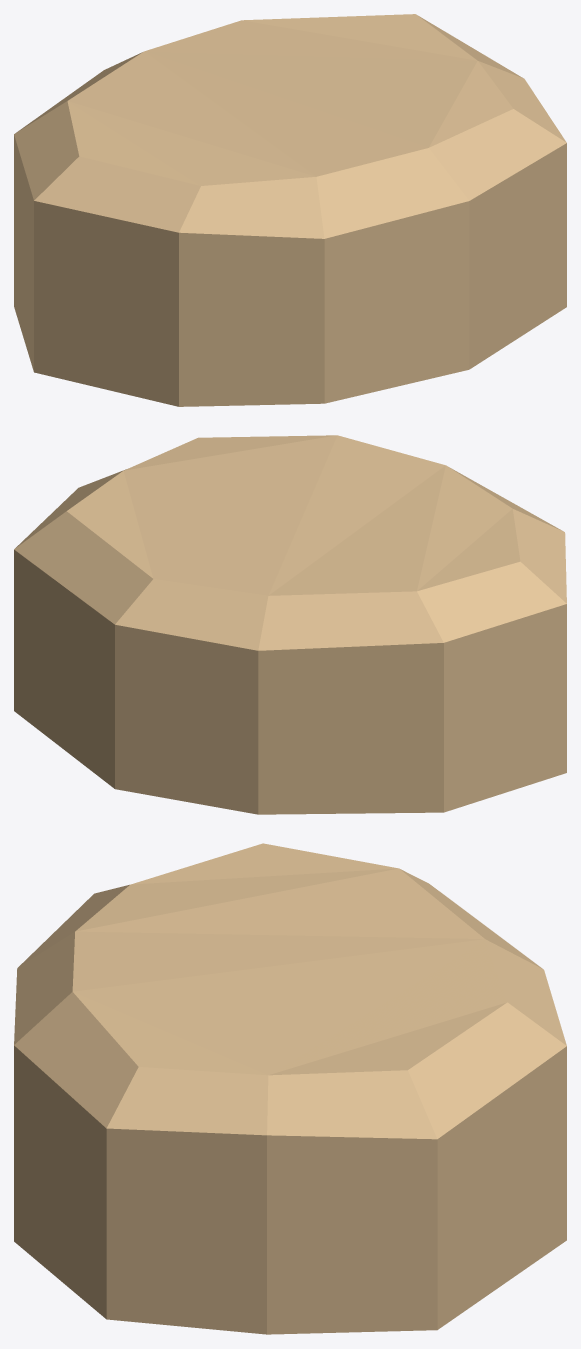
The model's file is terrace_stone_chunky.fbx.
3 views of the same model, one above another, from view 1: azimuth 30°, elevation 25°; view 2: azimuth 150°, elevation 25°; view 3: azimuth 270°, elevation 25° (orthographic). The views are drawn at different scales.
Visible parts, largest first — view 1: Terrace_Stone_Chunky; view 2: Terrace_Stone_Chunky; view 3: Terrace_Stone_Chunky.
Part boxes in pixels (x1,y1,x2,y2): Terrace_Stone_Chunky: (14, 14, 566, 406); Terrace_Stone_Chunky: (14, 435, 566, 814); Terrace_Stone_Chunky: (14, 843, 566, 1334).
Size of the model in its own units: 53.27 by 21.37 by 44.45.
